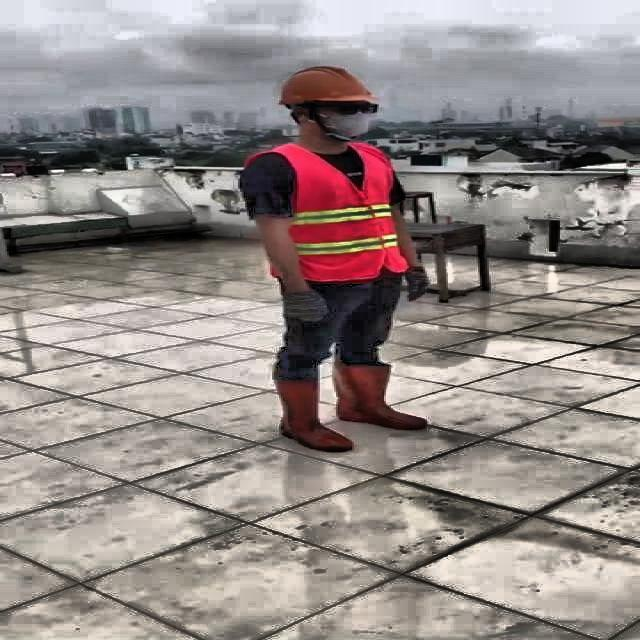safety_helmet: (271, 68, 381, 110)
safety_jacket: (240, 142, 407, 283)
